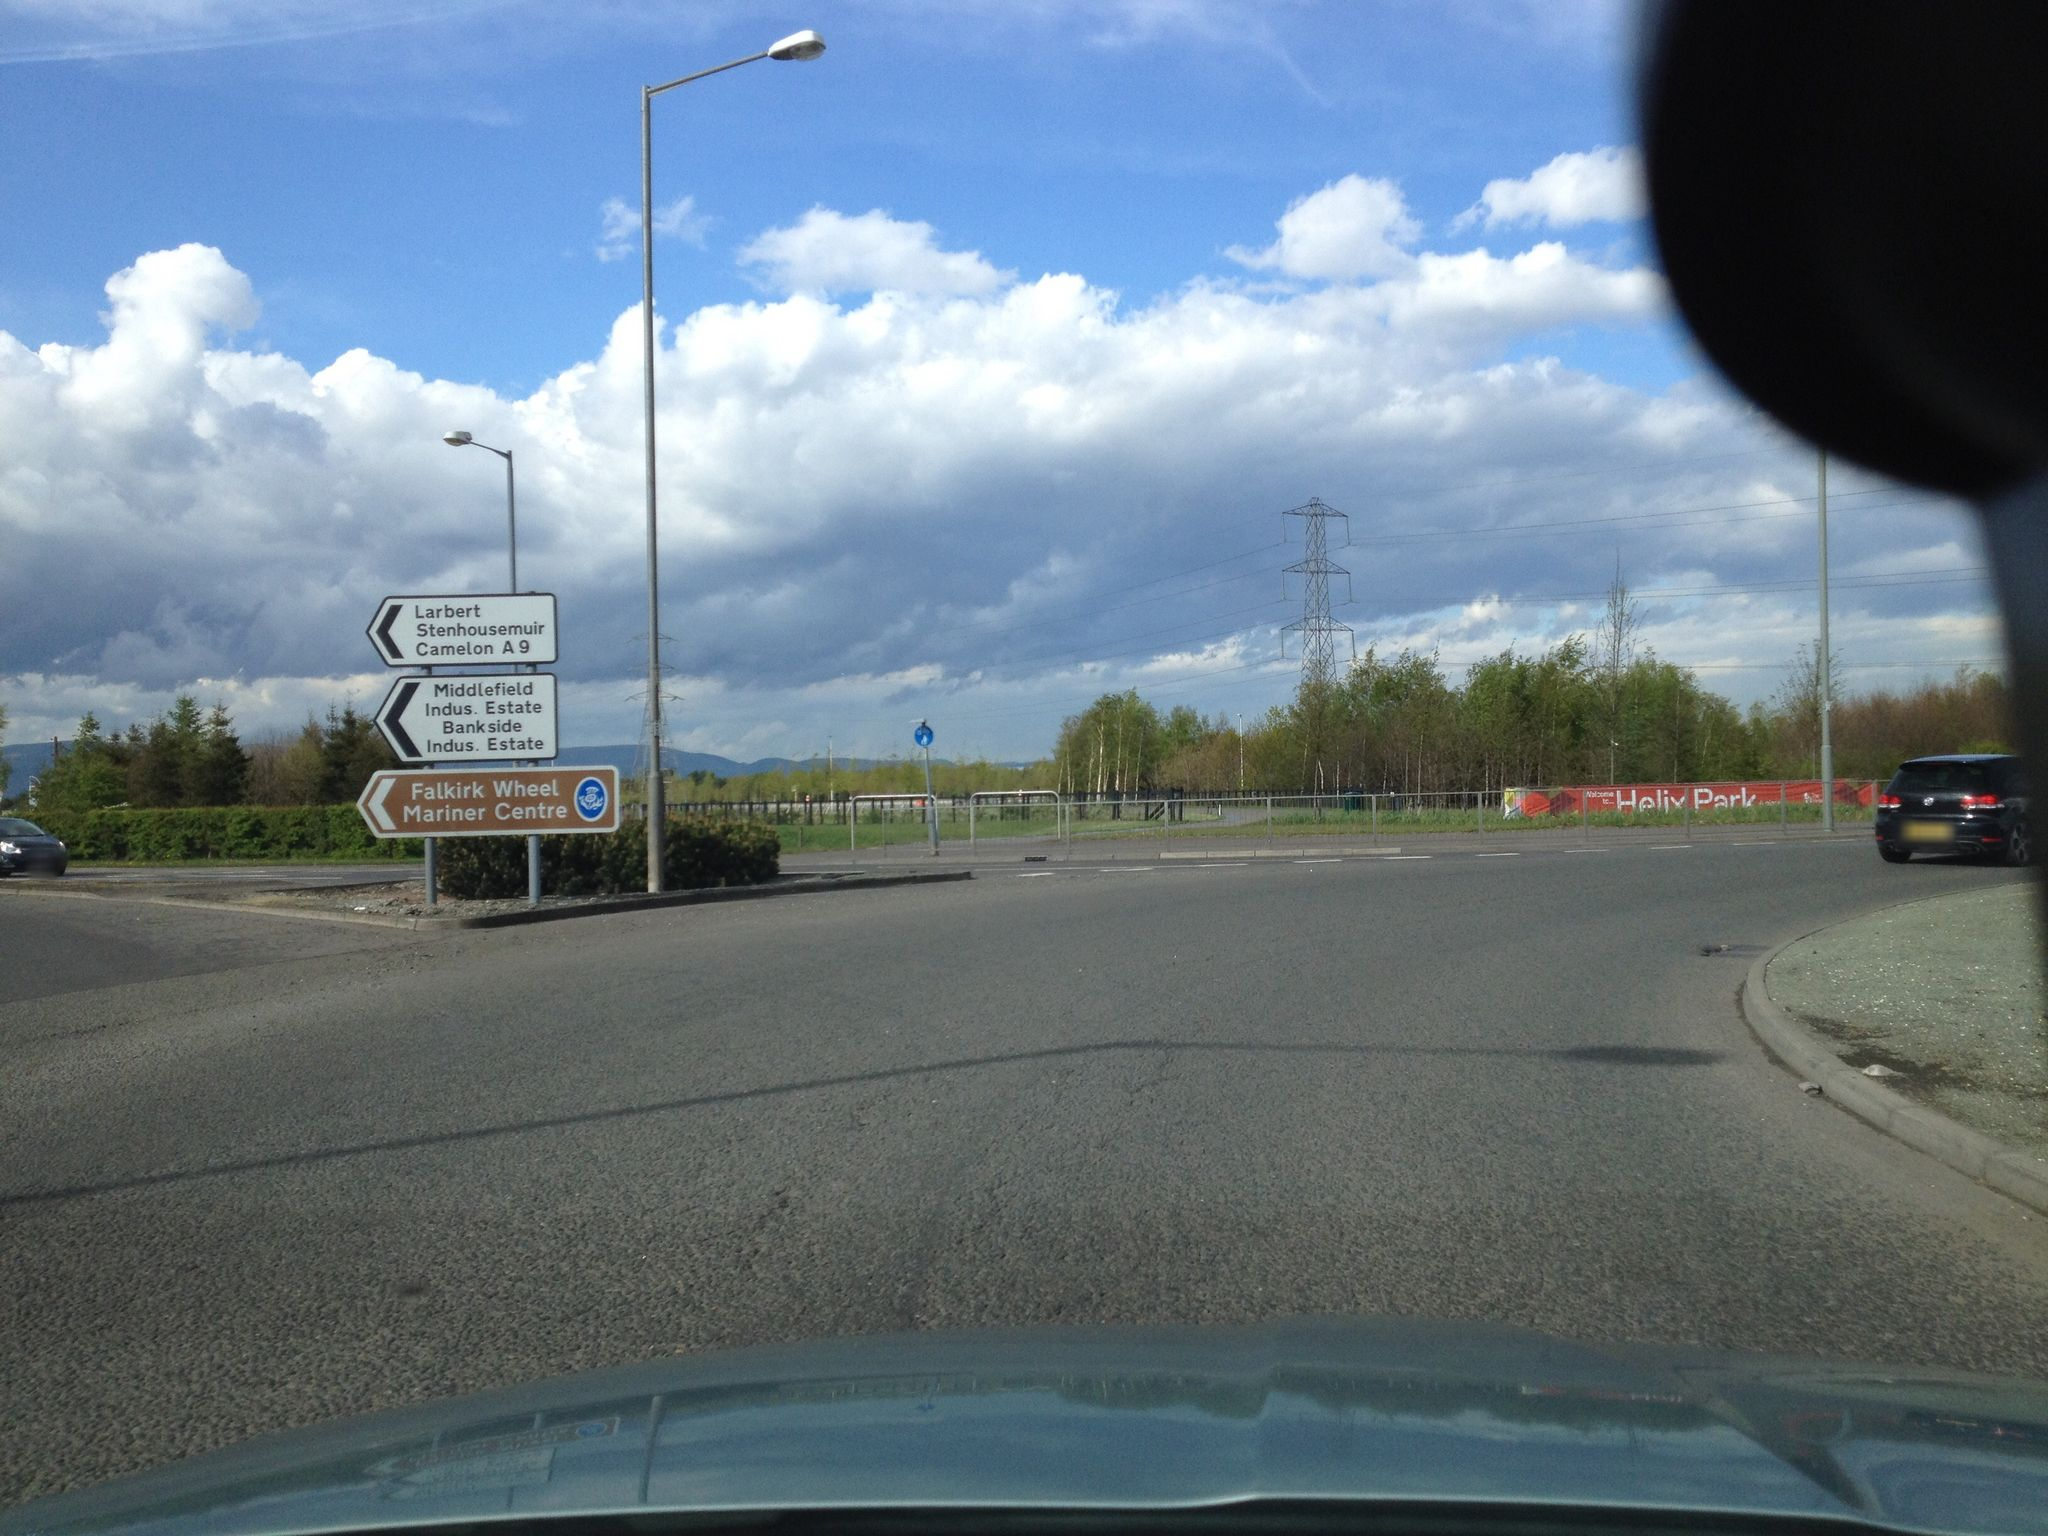car: (1872, 750, 2048, 863), (0, 816, 68, 878)
